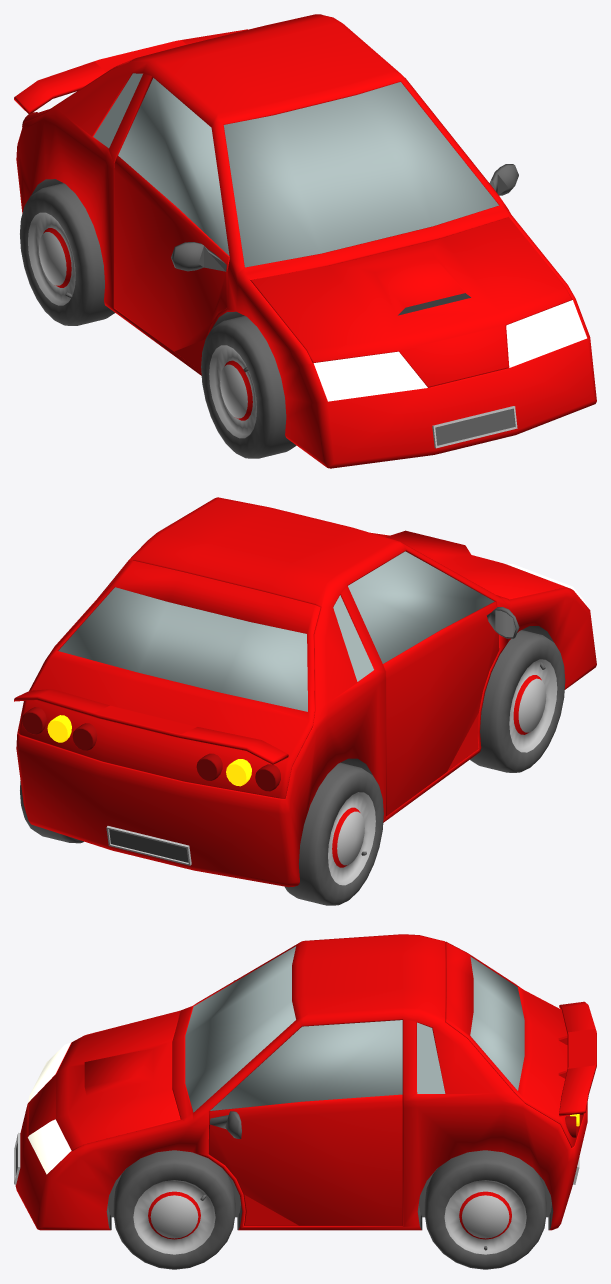
Rendered from arcade-car.glb.
3 views of the same model, one above another, from view 1: azimuth 30°, elevation 25°; view 2: azimuth 150°, elevation 25°; view 3: azimuth 270°, elevation 25° (orthographic). The views are drawn at different scales.
Visible parts, largest first — view 1: Body, Windshield, DoorFrontRight, TireFrontRight, TireBackRight, WindowFrontRight, WindowBackRight, DoorFrontLeft; view 2: Body, WindowTrunk, DoorFrontRight, TireBackRight, TireFrontRight, WindowFrontRight, WindowBackRight; view 3: Body, DoorFrontLeft, TireBackLeft, TireFrontLeft, WindowFrontLeft, Windshield, WindowTrunk, WindowBackLeft.
Part boxes in pixels (x1=…): Body: x1=14, y1=14, x2=596, y2=468; Windshield: x1=223, y1=82, x2=498, y2=267; DoorFrontRight: x1=114, y1=155, x2=229, y2=370; TireFrontRight: x1=201, y1=316, x2=296, y2=458; TireBackRight: x1=20, y1=183, x2=114, y2=325; WindowFrontRight: x1=118, y1=78, x2=229, y2=255; WindowBackRight: x1=93, y1=73, x2=142, y2=148; DoorFrontLeft: x1=489, y1=164, x2=518, y2=195; Body: x1=14, y1=497, x2=596, y2=887; WindowTrunk: x1=58, y1=587, x2=307, y2=711; DoorFrontRight: x1=383, y1=601, x2=519, y2=816; TireBackRight: x1=285, y1=762, x2=383, y2=905; TireFrontRight: x1=470, y1=630, x2=565, y2=772; WindowFrontRight: x1=348, y1=551, x2=494, y2=663; WindowBackRight: x1=333, y1=595, x2=373, y2=681; Body: x1=14, y1=934, x2=596, y2=1230; DoorFrontLeft: x1=208, y1=1094, x2=402, y2=1225; TireBackLeft: x1=424, y1=1150, x2=546, y2=1269; TireFrontLeft: x1=113, y1=1150, x2=235, y2=1269; WindowFrontLeft: x1=210, y1=1020, x2=402, y2=1110; Windshield: x1=185, y1=946, x2=295, y2=1112; WindowTrunk: x1=470, y1=956, x2=524, y2=1090; WindowBackLeft: x1=417, y1=1022, x2=445, y2=1093.
Bounding box in the file's own units: 4.92 × 3.78 × 8.38.
